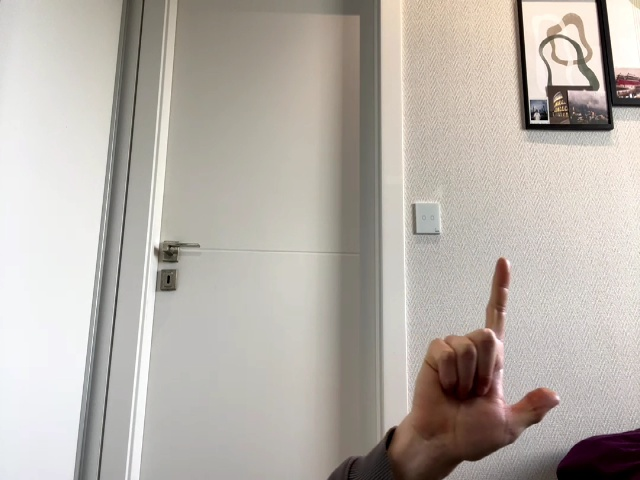L: (415, 258, 561, 460)
